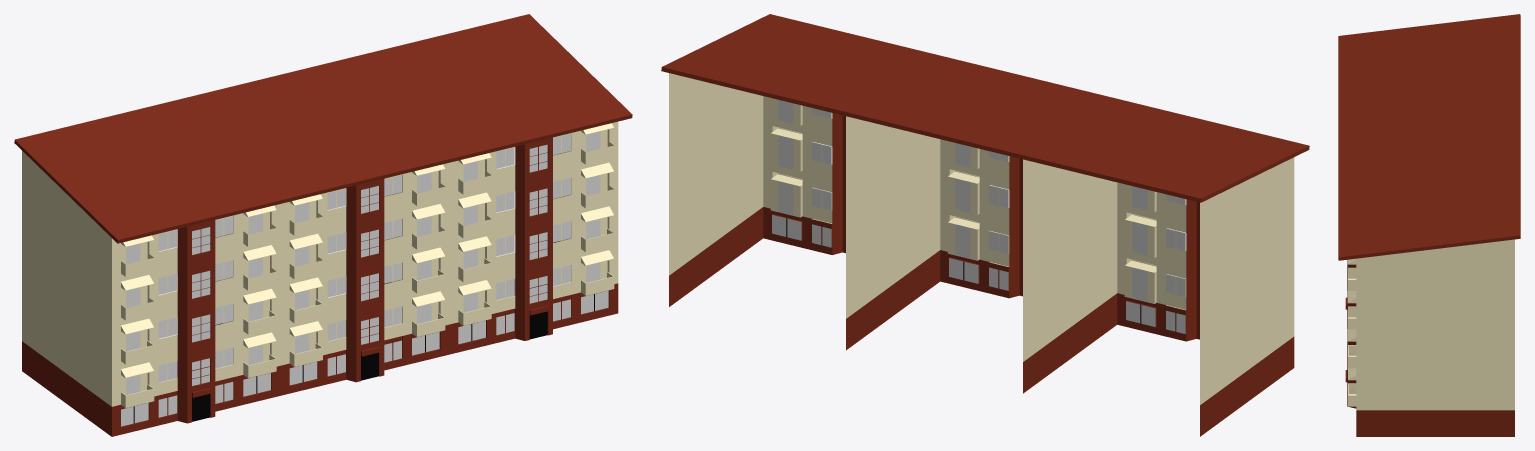
The model's file is building (1).fbx.
3 renders of one model, left to right at view 1: azimuth 30°, elevation 25°; view 2: azimuth 150°, elevation 25°; view 3: azimuth 270°, elevation 25°, orthographic. The views are drawn at different scales.
Parts seen in each view (by area): view 1: building up, Plane, building 1, building up.001, balcony, balcony.001; view 2: building up, building 1, Plane, building up.001; view 3: Plane, building up, building 1, balcony, building up.001.
Boxes of the visible parts, left/top/right/bottom form: building up: left=22, top=122, right=618, bottom=362; Plane: left=14, top=14, right=632, bottom=243; building 1: left=22, top=197, right=618, bottom=436; building up.001: left=449, top=121, right=618, bottom=281; balcony: left=121, top=272, right=614, bottom=407; balcony.001: left=121, top=228, right=614, bottom=364; building up: left=669, top=73, right=1294, bottom=359; building 1: left=669, top=161, right=1294, bottom=436; Plane: left=661, top=14, right=1309, bottom=202; building up.001: left=763, top=98, right=845, bottom=171; Plane: left=1338, top=14, right=1520, bottom=260; building up: left=1347, top=239, right=1514, bottom=371; building 1: left=1345, top=297, right=1514, bottom=436; balcony: left=1348, top=383, right=1356, bottom=406; building up.001: left=1347, top=260, right=1356, bottom=367.
Bounding box in the file's own units: 713 × 305 × 248.
